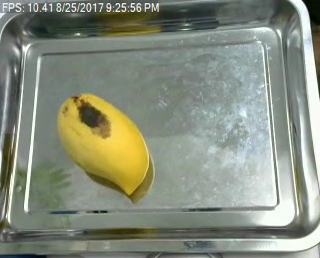Mango: (57, 90, 152, 191)
